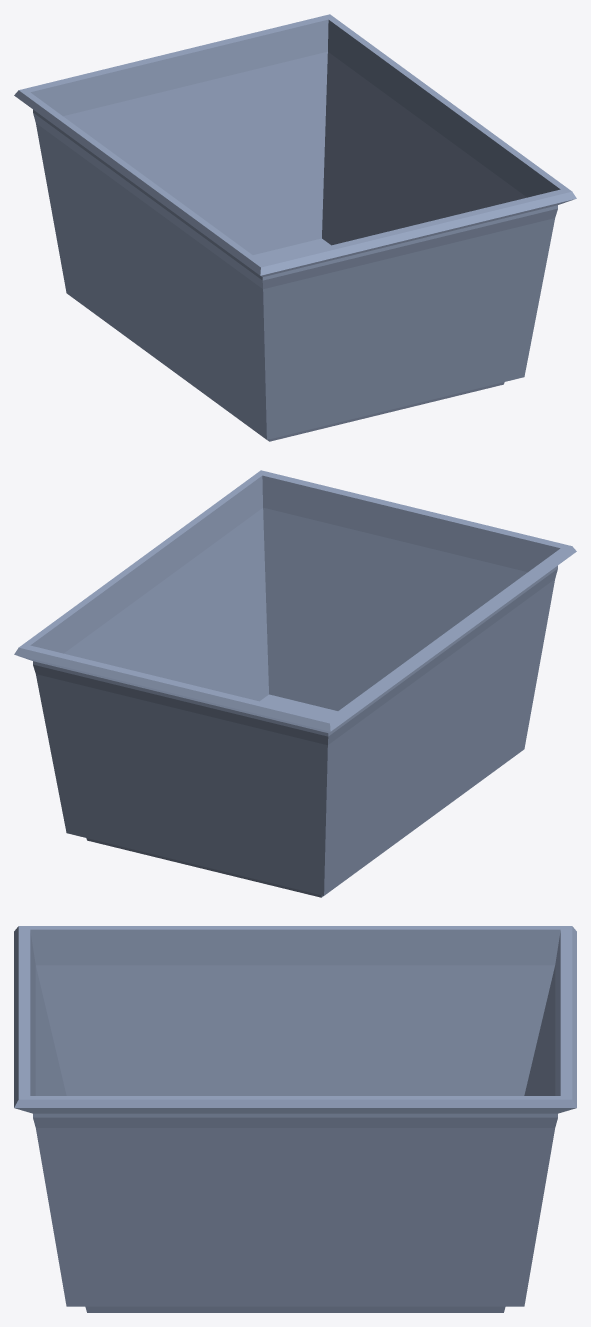
File: Bowl_Cube.fbx
3 views of the same model, one above another, from view 1: azimuth 30°, elevation 25°; view 2: azimuth 150°, elevation 25°; view 3: azimuth 270°, elevation 25° (orthographic). The views are drawn at different scales.
Visible parts, largest first — view 1: Bowl_Cube; view 2: Bowl_Cube; view 3: Bowl_Cube.
Part boxes in pixels (x1,y1,x2,y2): Bowl_Cube: (14, 14, 576, 441); Bowl_Cube: (14, 470, 576, 897); Bowl_Cube: (14, 926, 576, 1312).
Bounding box in the file's own units: 101 × 62.52 × 136.
